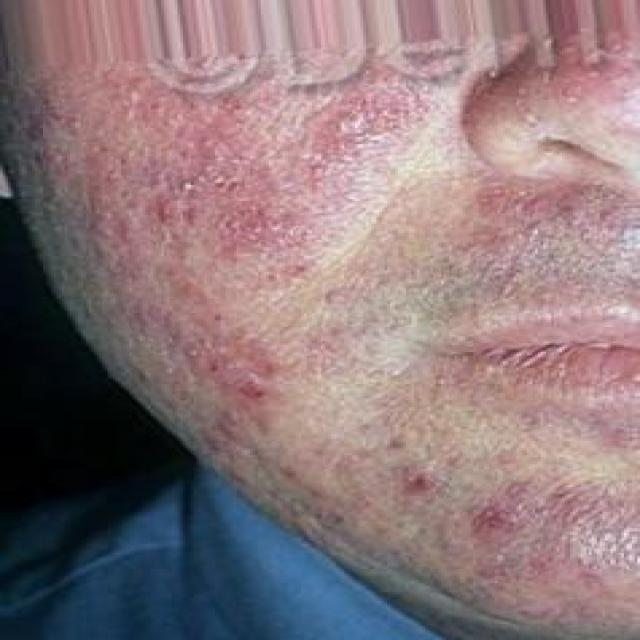Rosacea: (64, 71, 423, 427), (369, 442, 640, 592), (462, 183, 624, 239)
